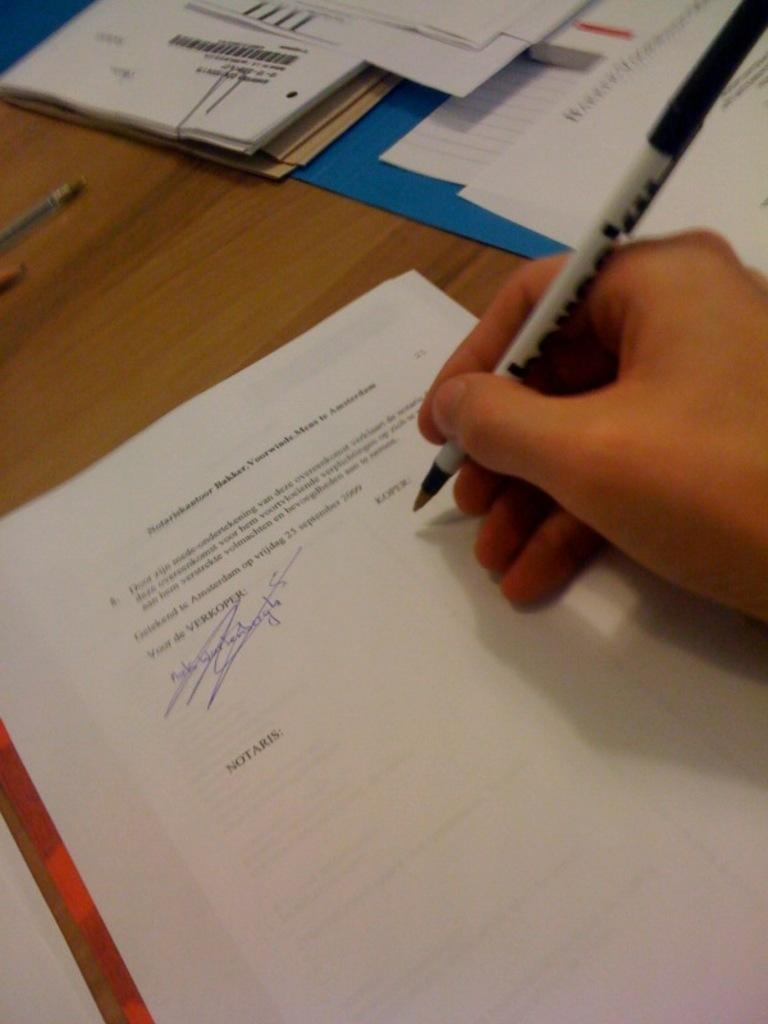pen: (412, 0, 767, 513)
